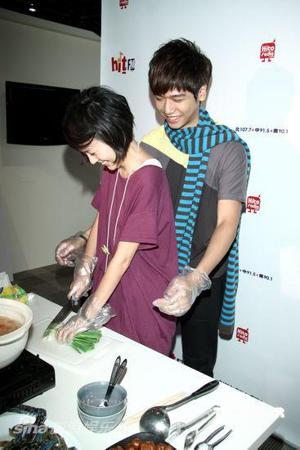person: (56, 87, 181, 359)
